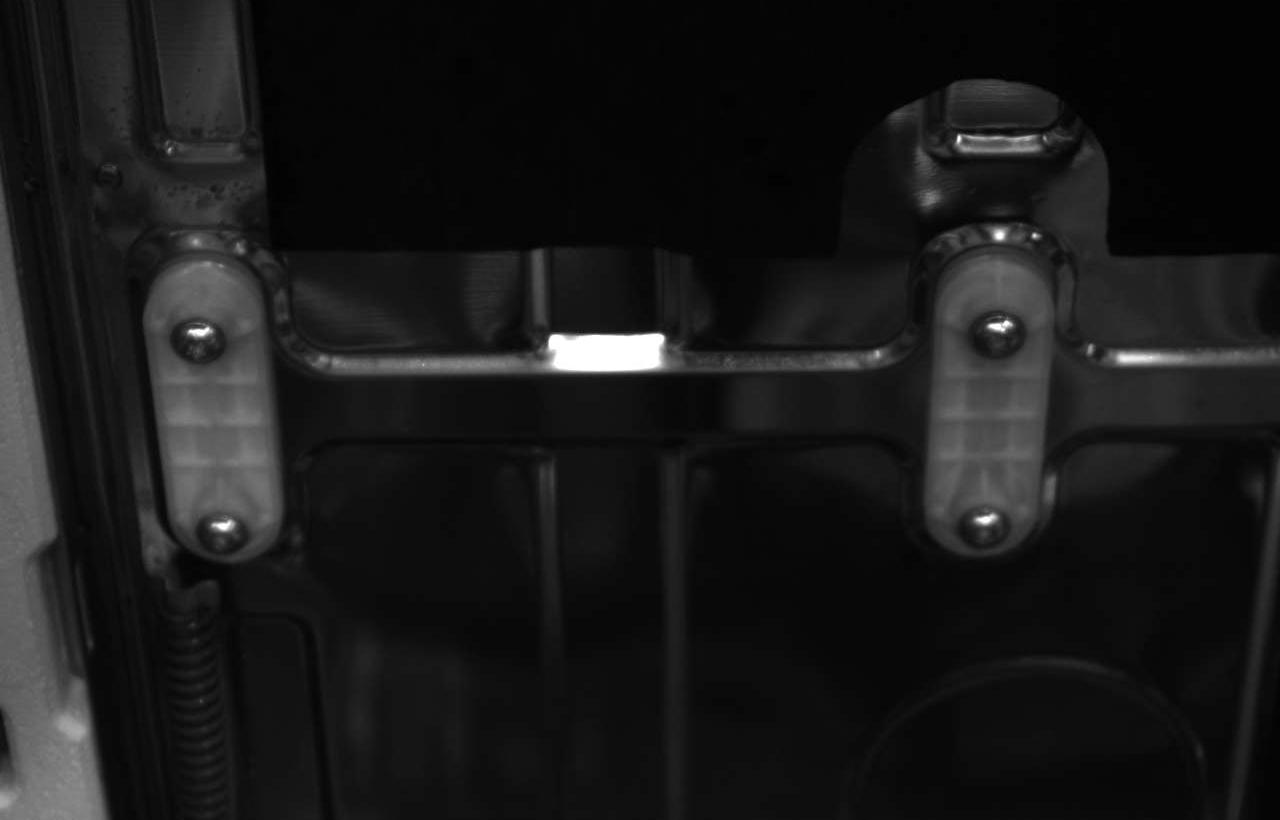vida-ok: (166, 307, 237, 374), (951, 488, 1017, 557), (963, 301, 1030, 368), (189, 502, 254, 561)
